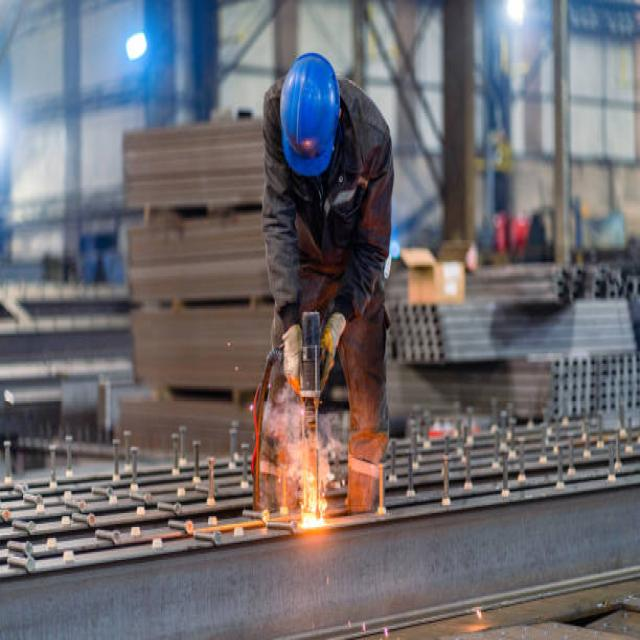Gloves: (306, 304, 352, 403), (276, 318, 308, 401)
helmet: (280, 52, 341, 178)
person: (252, 49, 398, 524)
